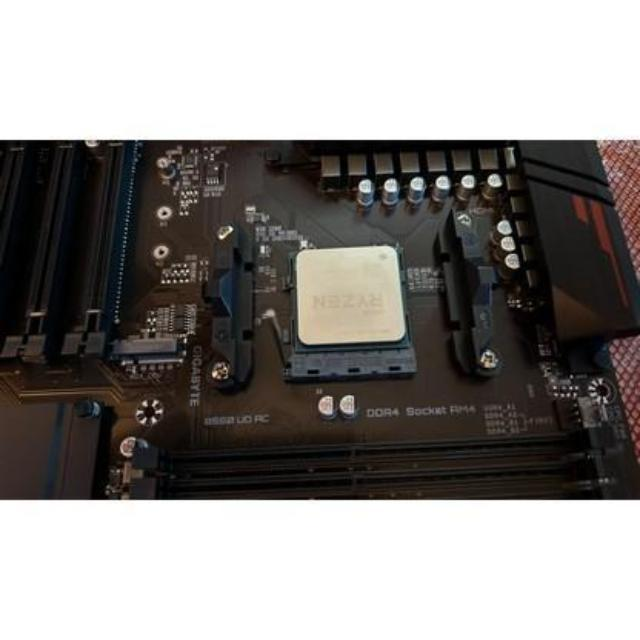CPU: (294, 243, 408, 355)
